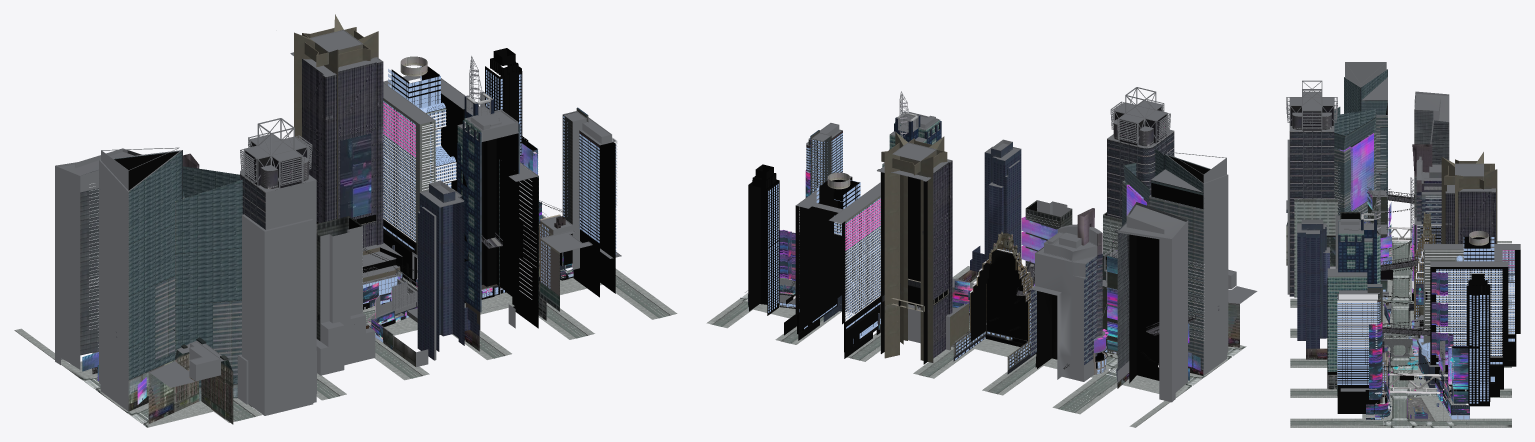
Rendered from jotkot-transformed-transformed-transformed.glb.
3 views of the same model, side by side, from view 1: azimuth 30°, elevation 25°; view 2: azimuth 150°, elevation 25°; view 3: azimuth 270°, elevation 25° (orthographic). The views are drawn at different scales.
Parts seen in each view (by area): view 1: Object_14, Object_180, Object_26, Object_41, Object_32, Object_11, Plane.007, Object_186, Object_189; view 2: Object_14, Object_26, Object_180, Object_41, Object_32, Object_11, Plane.007, Object_186, Object_189; view 3: Object_180, Object_14, Object_26, Object_32, Object_41, Object_11, Plane.007, Cube.031, Object_186, Object_4, BézierCurve.062, Cube.046.
Part boxes in pixels (x1,y1,x2,y2): Object_14: (55,30,621,415); Object_180: (80,58,538,406); Object_26: (114,48,615,328); Object_41: (92,14,615,424); Object_32: (14,214,677,427); Object_11: (340,107,587,314); Plane.007: (89,112,617,347); Object_186: (82,245,417,404); Object_189: (368,102,415,329); Object_14: (740,87,1257,402); Object_26: (748,156,1209,383); Object_180: (882,111,1210,370); Object_41: (806,101,1239,388); Object_32: (706,266,1246,427); Object_11: (748,130,1189,343); Plane.007: (799,139,1204,340); Object_186: (823,250,1200,380); Object_189: (845,127,1164,250); Object_180: (1289,69,1495,371); Object_14: (1286,62,1520,427); Object_26: (1326,103,1520,418); Object_32: (1290,241,1511,427); Object_41: (1286,106,1514,403); Object_11: (1339,133,1469,418); Plane.007: (1330,135,1514,357); Cube.031: (1380,191,1430,335); Object_186: (1367,191,1447,406); Object_4: (1388,227,1451,389); BézierCurve.062: (1381,208,1447,381); Cube.046: (1383,334,1418,357).
Bounding box in the file's own units: 29.8 × 20.82 × 15.74.
22 materials, 20 textured.
